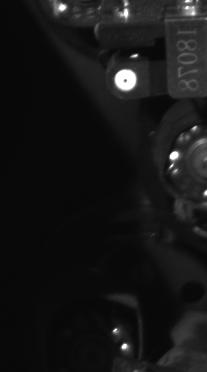fiber: (108, 62, 146, 103)
